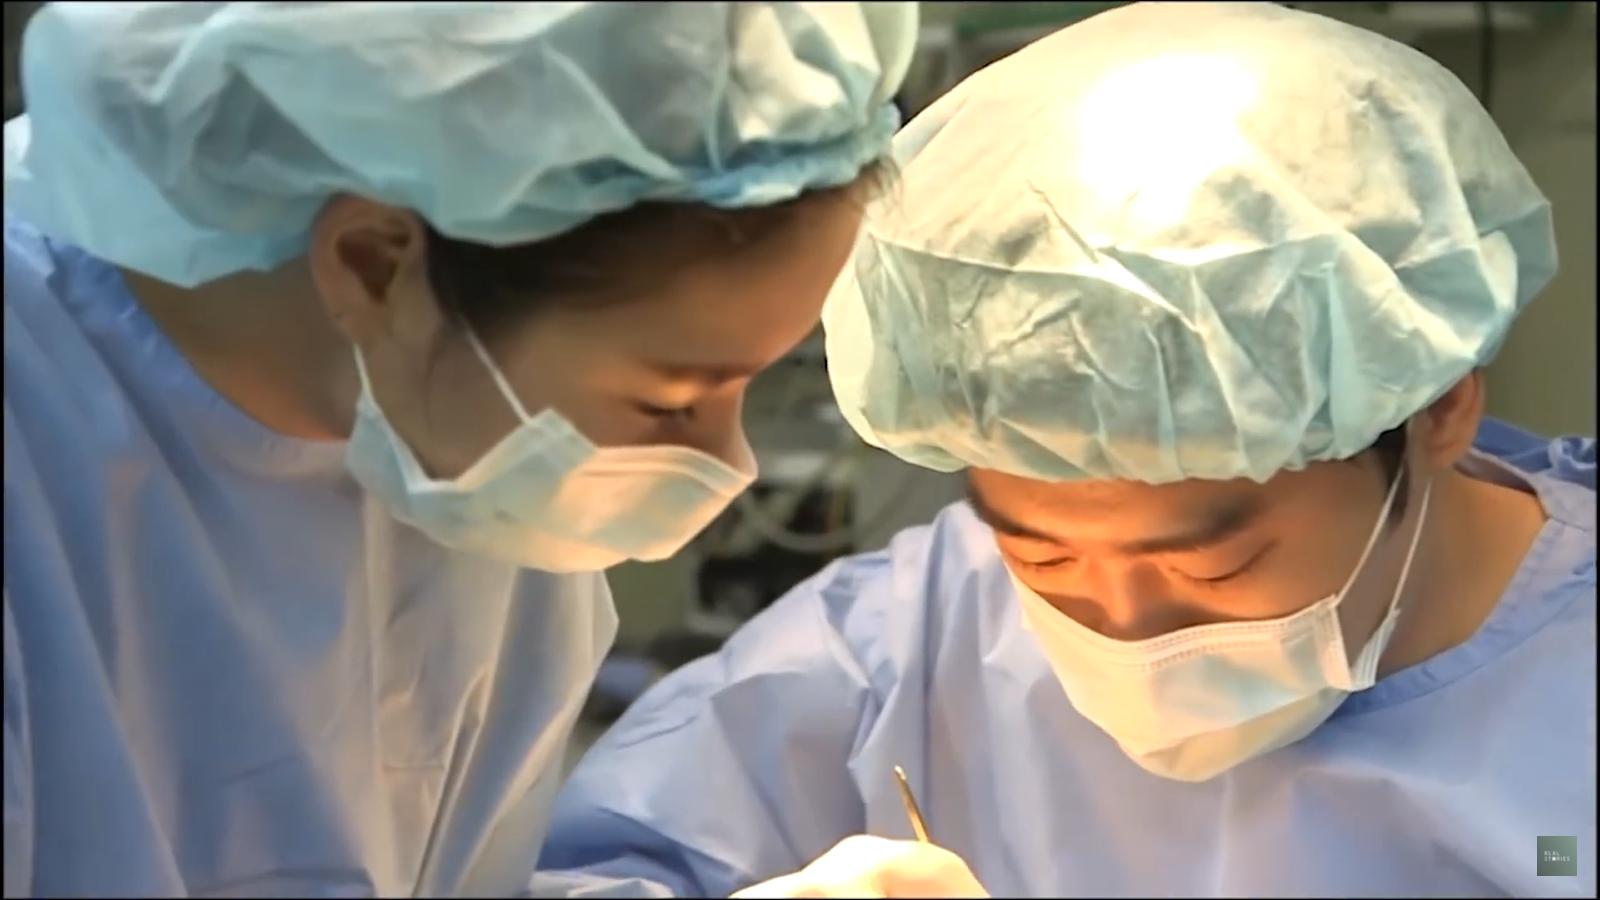with_mask: (389, 300, 750, 511), (1065, 465, 1355, 721)
